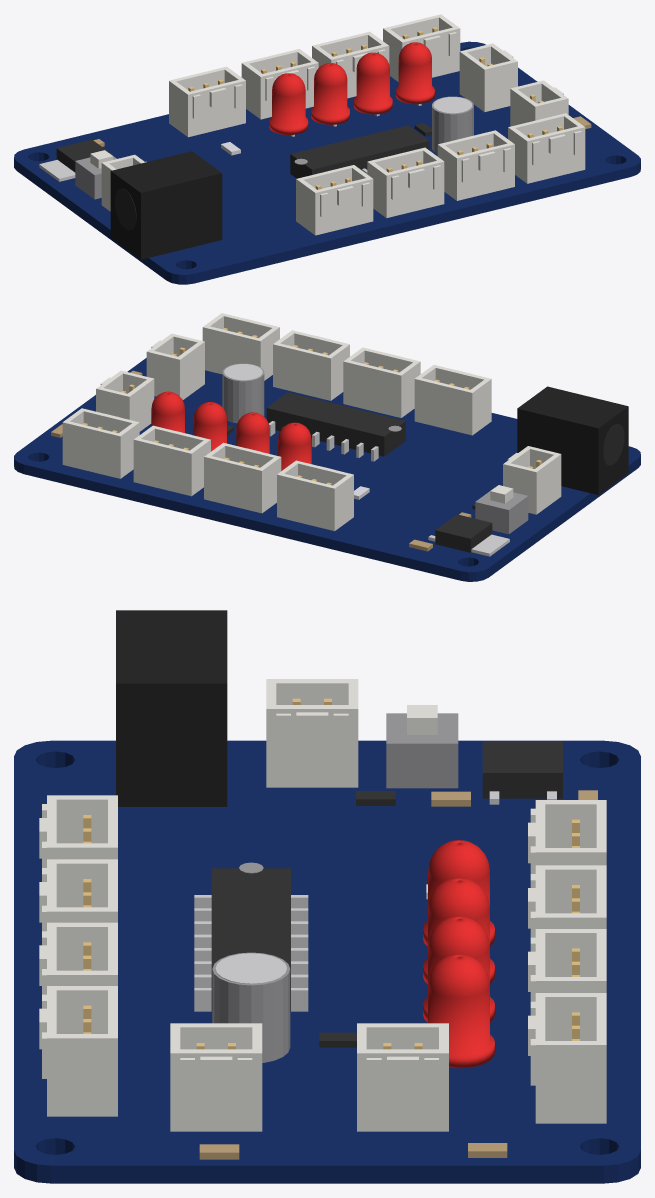
The model's file is jr_board.glb.
The picture shows the model from 3 angles, top to bottom: view 1: azimuth 30°, elevation 25°; view 2: azimuth 150°, elevation 25°; view 3: azimuth 270°, elevation 25°; orthographic projection. The views are drawn at different scales.
Parts seen in each view (by area): view 1: jr_board_pcb, jr_board_u3, jr_board_ip1, jr_board_op1, jr_board_ip2, jr_board_ip3, jr_board_ip4, jr_board_u1, jr_board_cn1, jr_board_op4, jr_board_op2, jr_board_op3 (+13 smaller); view 2: jr_board_pcb, jr_board_u3, jr_board_u1, jr_board_ip1, jr_board_op1, jr_board_op2, jr_board_ip2, jr_board_op4, jr_board_op3, jr_board_ip3, jr_board_ip4, jr_board_cn2 (+14 smaller); view 3: jr_board_pcb, jr_board_u3, jr_board_cn2, jr_board_cn3, jr_board_cn1, jr_board_op4, jr_board_ip4, jr_board_u1, jr_board_led4, jr_board_op1, jr_board_sw1, jr_board_ip1 (+13 smaller).
Part boxes in pixels (x1=…): jr_board_pcb: x1=14, y1=41, x2=640, y2=284; jr_board_u3: x1=110, y1=151, x2=222, y2=259; jr_board_ip1: x1=296, y1=165, x2=373, y2=235; jr_board_op1: x1=169, y1=66, x2=245, y2=137; jr_board_ip2: x1=367, y1=147, x2=444, y2=218; jr_board_ip3: x1=437, y1=130, x2=514, y2=200; jr_board_ip4: x1=508, y1=113, x2=585, y2=183; jr_board_u1: x1=290, y1=125, x2=429, y2=178; jr_board_cn1: x1=459, y1=43, x2=517, y2=112; jr_board_op4: x1=383, y1=14, x2=460, y2=81; jr_board_op2: x1=241, y1=49, x2=318, y2=119; jr_board_op3: x1=312, y1=31, x2=389, y2=98; jr_board_pcb: x1=14, y1=358, x2=640, y2=581; jr_board_u3: x1=517, y1=386, x2=628, y2=494; jr_board_u1: x1=266, y1=392, x2=405, y2=456; jr_board_ip1: x1=414, y1=365, x2=491, y2=435; jr_board_op1: x1=277, y1=460, x2=353, y2=531; jr_board_op2: x1=204, y1=442, x2=281, y2=513; jr_board_ip2: x1=343, y1=347, x2=420, y2=417; jr_board_op4: x1=62, y1=408, x2=139, y2=478; jr_board_op3: x1=133, y1=425, x2=210, y2=496; jr_board_ip3: x1=273, y1=330, x2=349, y2=400; jr_board_ip4: x1=202, y1=313, x2=279, y2=380; jr_board_cn2: x1=146, y1=333, x2=204, y2=399; jr_board_pcb: x1=14, y1=740, x2=640, y2=1183; jr_board_u3: x1=116, y1=610, x2=227, y2=806; jr_board_cn2: x1=170, y1=1023, x2=262, y2=1131; jr_board_cn3: x1=266, y1=679, x2=358, y2=787; jr_board_cn1: x1=357, y1=1023, x2=448, y2=1131; jr_board_op4: x1=528, y1=993, x2=606, y2=1123; jr_board_ip4: x1=39, y1=986, x2=117, y2=1116; jr_board_u1: x1=211, y1=868, x2=290, y2=1011; jr_board_led4: x1=428, y1=954, x2=494, y2=1068; jr_board_op1: x1=528, y1=800, x2=606, y2=873; jr_board_sw1: x1=386, y1=713, x2=458, y2=788; jr_board_ip1: x1=39, y1=795, x2=117, y2=867.
Bounding box in the file's own units: 0.0827 × 0.0126 × 0.0507.
